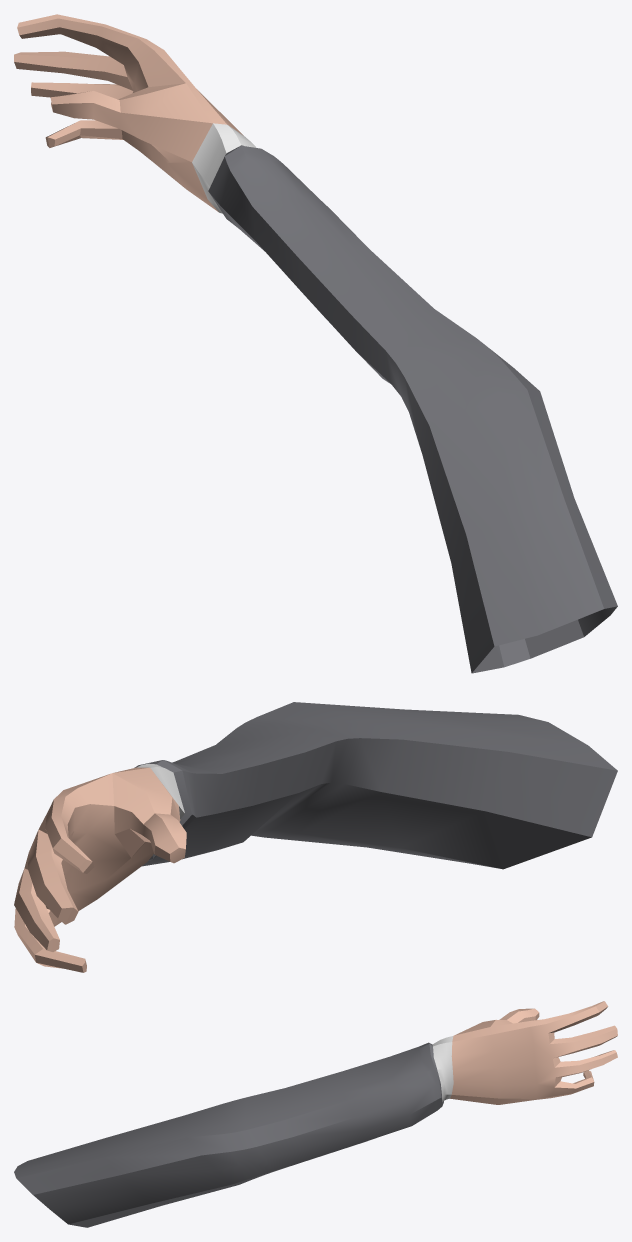
File: 01righthand.fbx
3 views of the same model, one above another, from view 1: azimuth 30°, elevation 25°; view 2: azimuth 150°, elevation 25°; view 3: azimuth 270°, elevation 25° (orthographic). The views are drawn at different scales.
Visible parts, largest first — view 1: Plane.001; view 2: Plane.001; view 3: Plane.001.
Boxes of the visible parts, x1,y1,x2,y2 form: Plane.001: (14,14,617,673); Plane.001: (14,702,617,972); Plane.001: (14,1001,617,1227).
Bounding box in the file's own units: 34.64 × 52.76 × 139.
